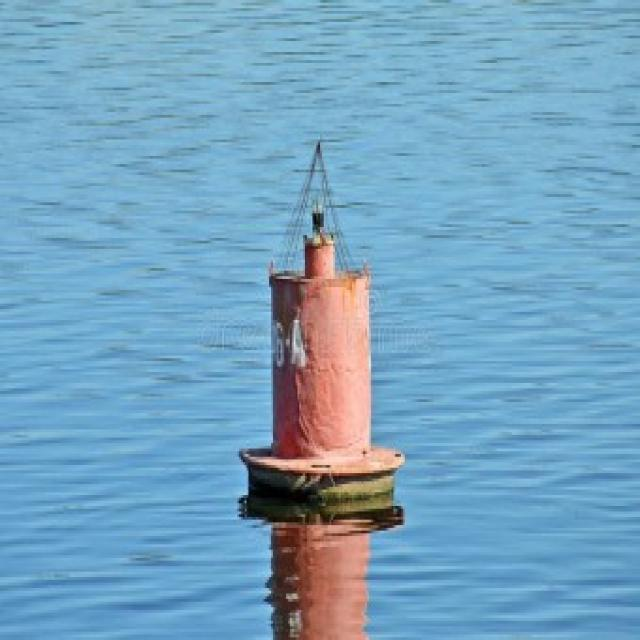2.1 lateral mark -P-: (243, 114, 407, 522)
